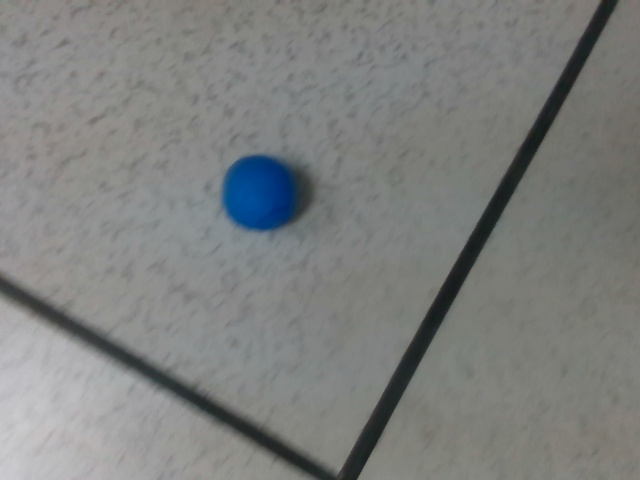blueball: (212, 150, 297, 230)
